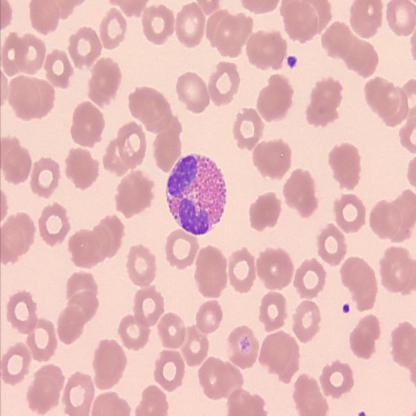Eosinophil: (166, 153, 225, 236)
